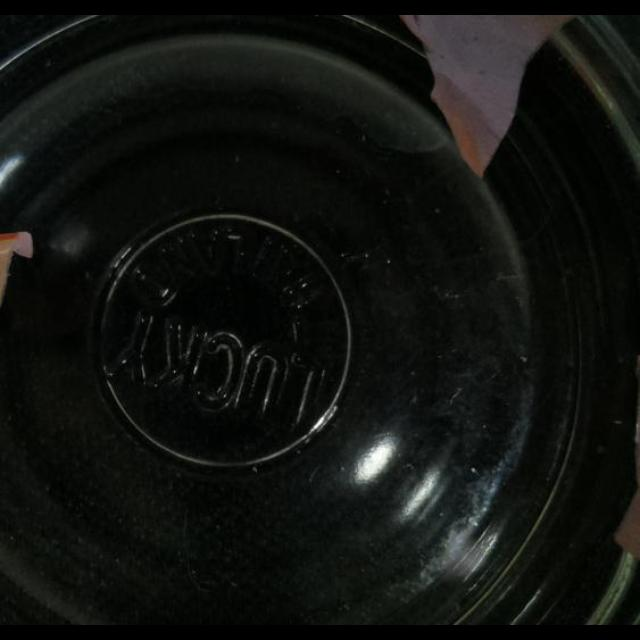Fragment: (394, 15, 574, 179), (614, 346, 640, 572), (0, 230, 38, 308)
